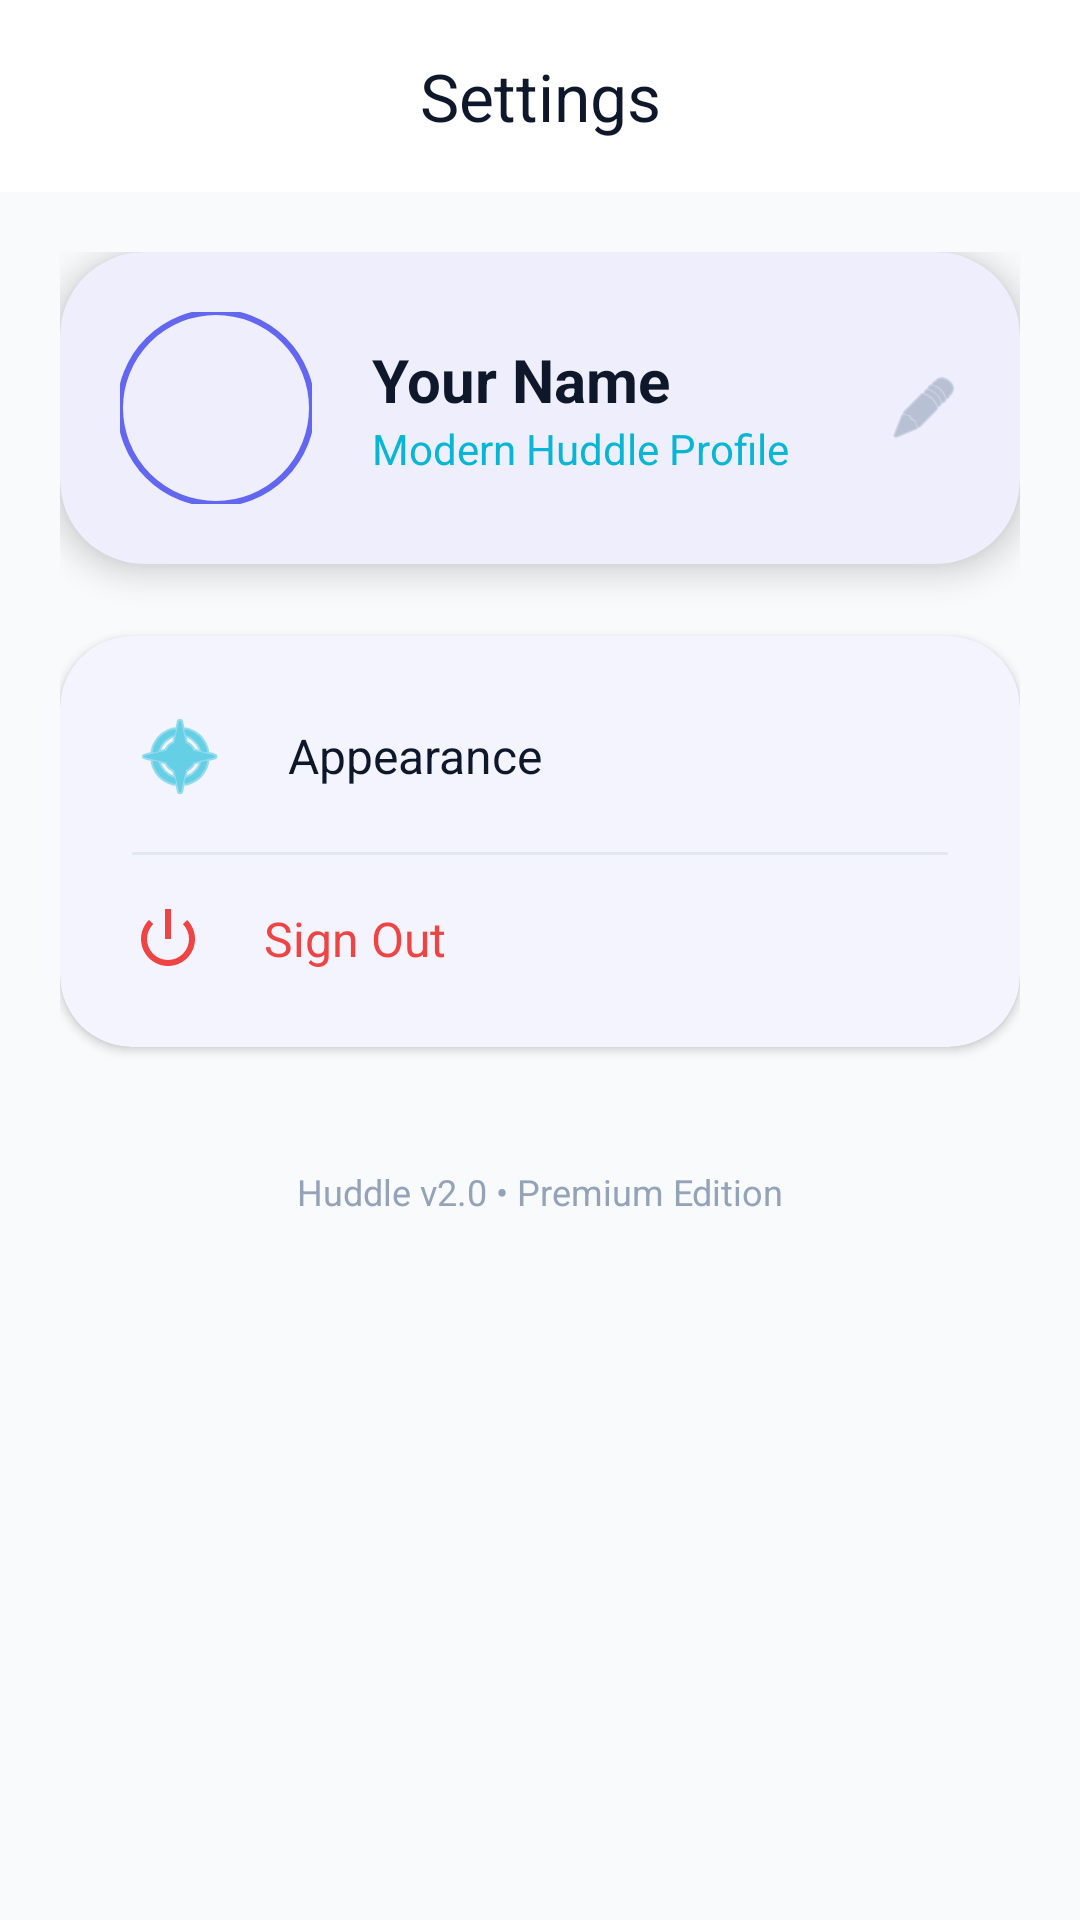

Named icons in this screenshot (1080px×1920px) and their bounding boxes, Rect(x1, y1, x2, y2):
edit: Rect(894, 377, 954, 437)
